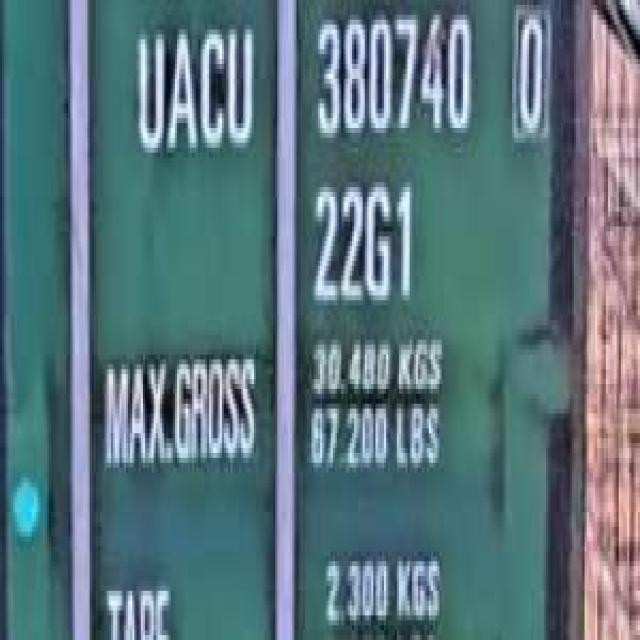dv: (508, 0, 550, 148)
owner: (130, 10, 260, 172)
serial: (309, 0, 476, 153)
size: (305, 167, 418, 315)
